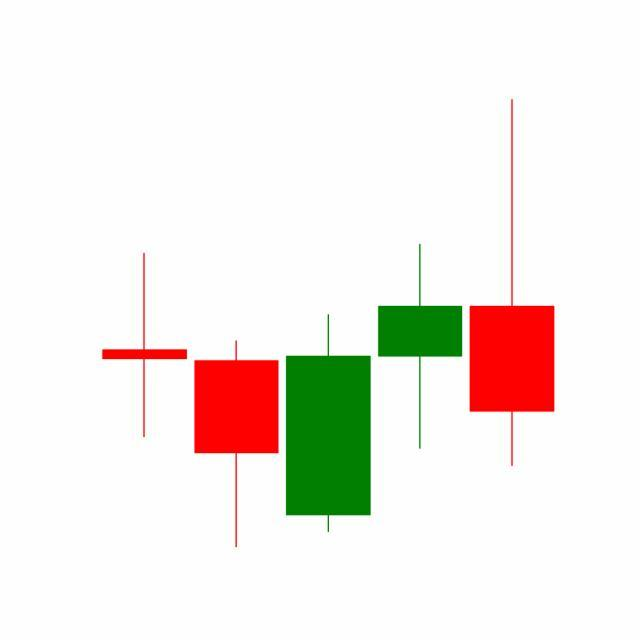Three Outside Up-Down: (190, 240, 467, 549)
